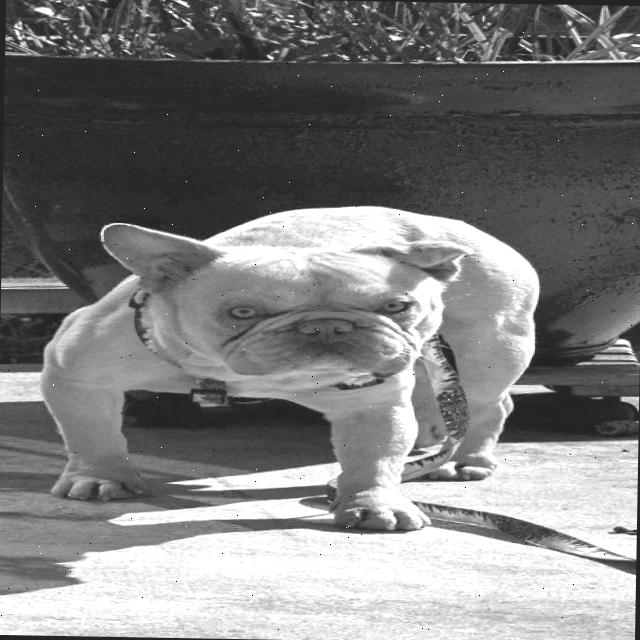french_bulldog_dog: (82, 208, 491, 404)
